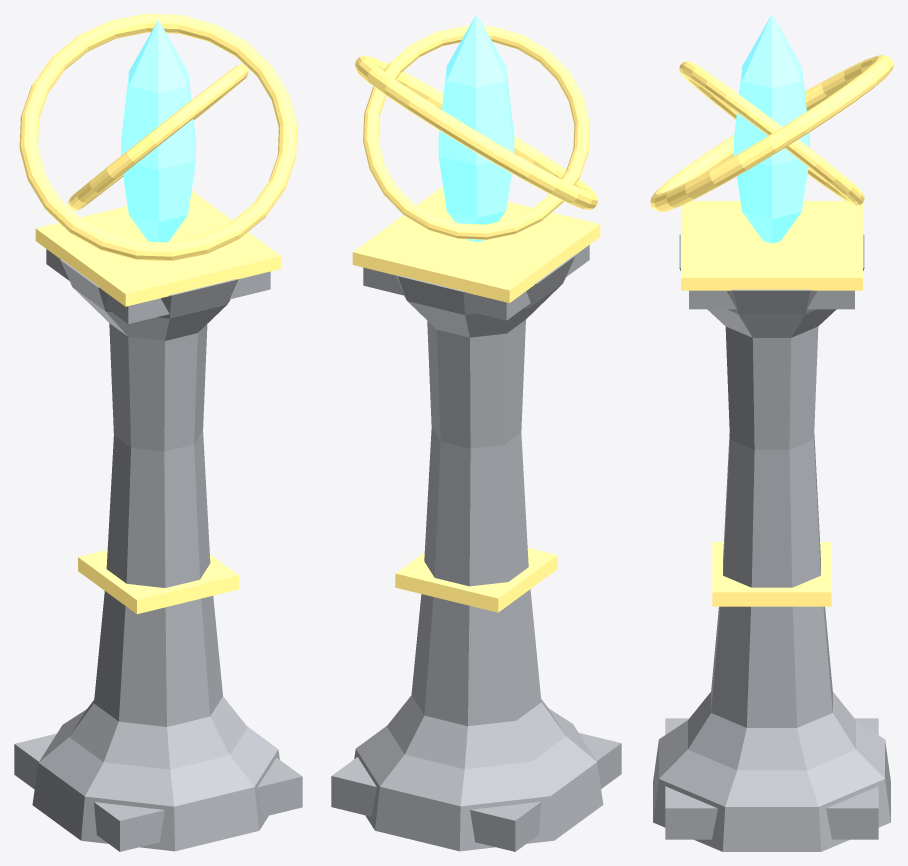
Rendered from celestial_spire.glb.
3 renders of one model, left to right at view 1: azimuth 30°, elevation 25°; view 2: azimuth 150°, elevation 25°; view 3: azimuth 270°, elevation 25°, orthographic.
Visible parts, largest first — view 1: CelestialMarbleBody, CelestialGoldRings, CelestialAetherCrystal; view 2: CelestialMarbleBody, CelestialGoldRings, CelestialAetherCrystal; view 3: CelestialMarbleBody, CelestialGoldRings, CelestialAetherCrystal.
Boxes of the visible parts, <box> form: CelestialMarbleBody: <box>14,249,302,851</box>; CelestialGoldRings: <box>19,14,297,614</box>; CelestialAetherCrystal: <box>121,20,195,242</box>; CelestialMarbleBody: <box>331,245,621,851</box>; CelestialGoldRings: <box>352,25,600,612</box>; CelestialAetherCrystal: <box>438,14,514,242</box>; CelestialMarbleBody: <box>653,234,890,851</box>; CelestialGoldRings: <box>650,55,893,606</box>; CelestialAetherCrystal: <box>734,14,809,243</box>.
Size of the model in its own units: 1.72 by 5.54 by 1.55.
